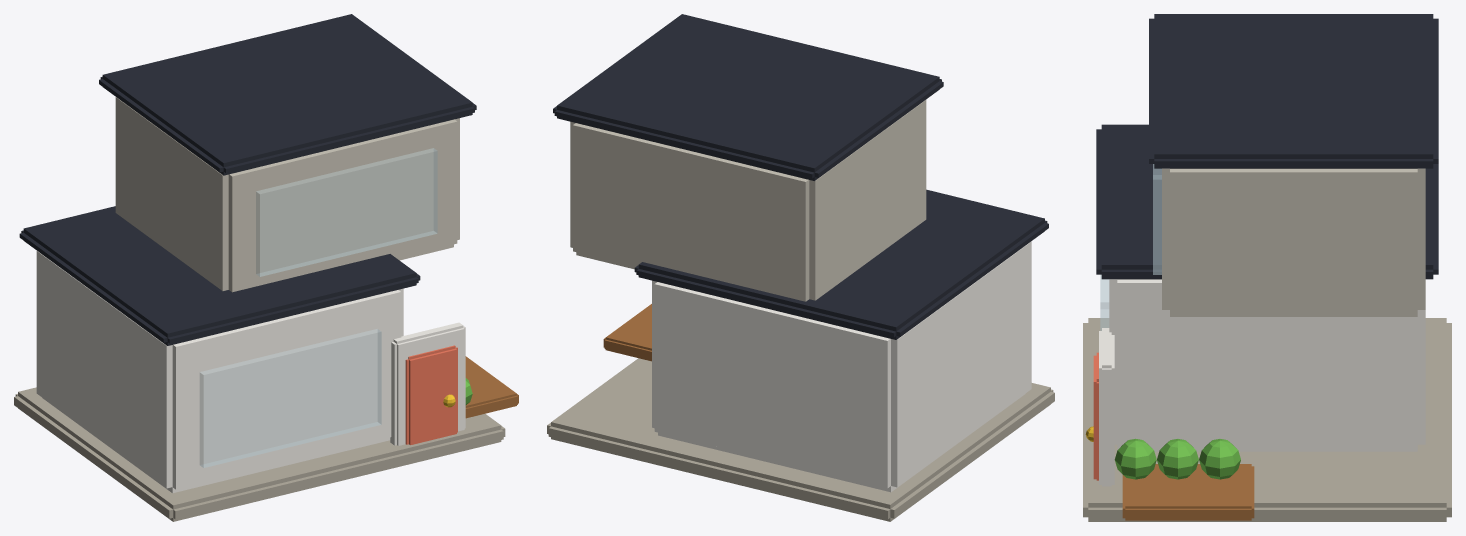
The model's file is modern.glb.
The picture shows the model from 3 angles, left to right: view 1: azimuth 30°, elevation 25°; view 2: azimuth 150°, elevation 25°; view 3: azimuth 270°, elevation 25°; orthographic projection. The views are drawn at different scales.
Parts seen in each view (by area): view 1: modern; view 2: modern; view 3: modern.
Part boxes in pixels (x1,y1,x2,y2): modern: (14, 14, 518, 521); modern: (547, 14, 1054, 521); modern: (1083, 14, 1451, 521).
Bounding box in the file's own units: 1.85 × 1.54 × 1.4.
